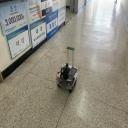cart: (56, 63, 78, 93)
